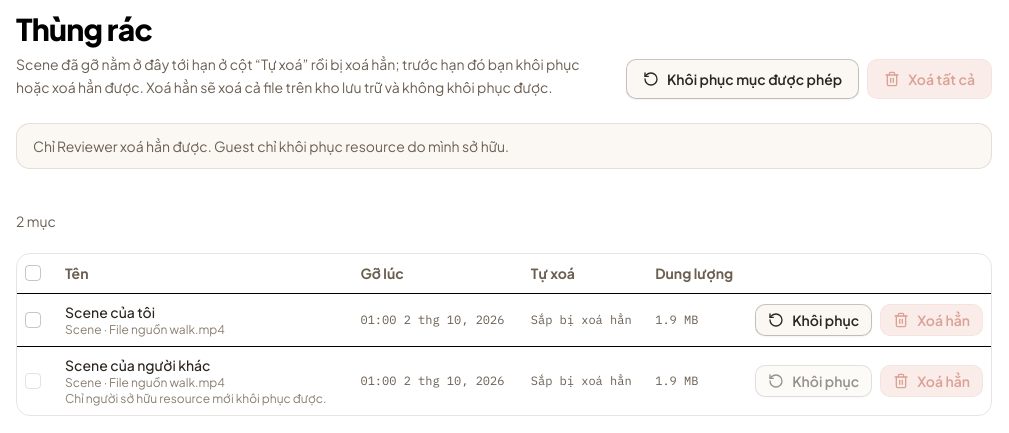
Test case: TrashPage › Guest chỉ chọn và khôi phục entry có capability sở hữu; request bulk không gửi entry foreign
Expected: the button with aria-label "Khôi phục Scene của tôi" is enabled, [755,304,872,336]
Expected: the button with aria-label "Khôi phục Scene của người khác" is disabled, [755,365,872,397]
What coordinates should you click on to do the following:
click the checkbox named "Chọn tất cả"
I would click on:
 (33, 273)
Its box is [25,265,41,281].
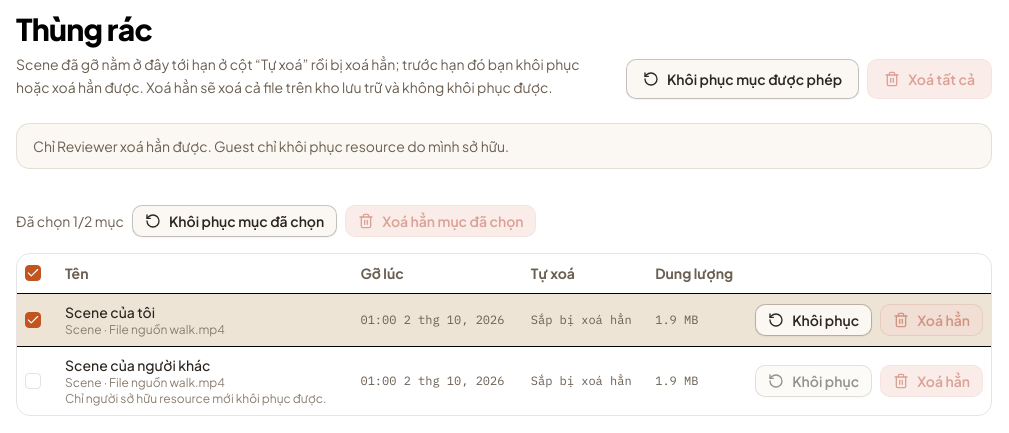
Now the text "Đã chọn 1/2 mục" is shown, box [16,210,124,230]
What coordinates should you click on to do the following:
click the button "Khôi phục mục đã chọn"
I would click on:
 (235, 220)
Its box is [132,204,337,236].
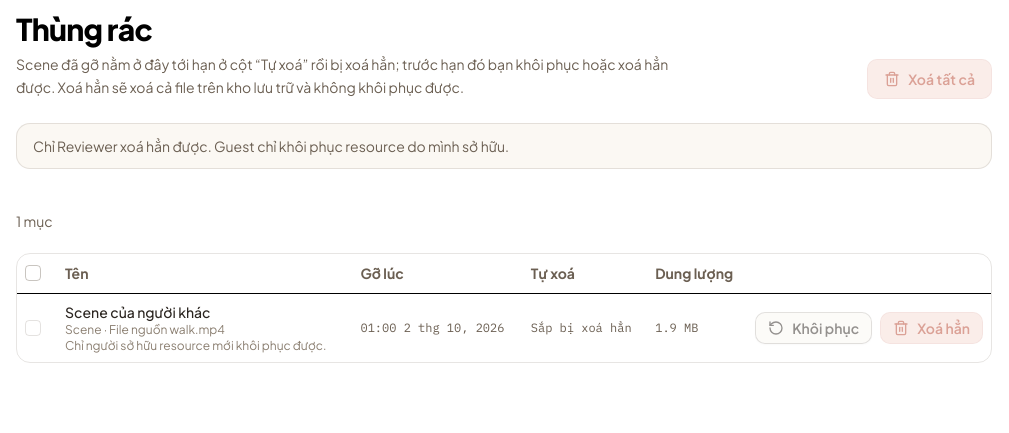
Expected: the text "Scene của người khác" is shown, [65,303,211,321]
Now the text "Scene của tôi" is gone
